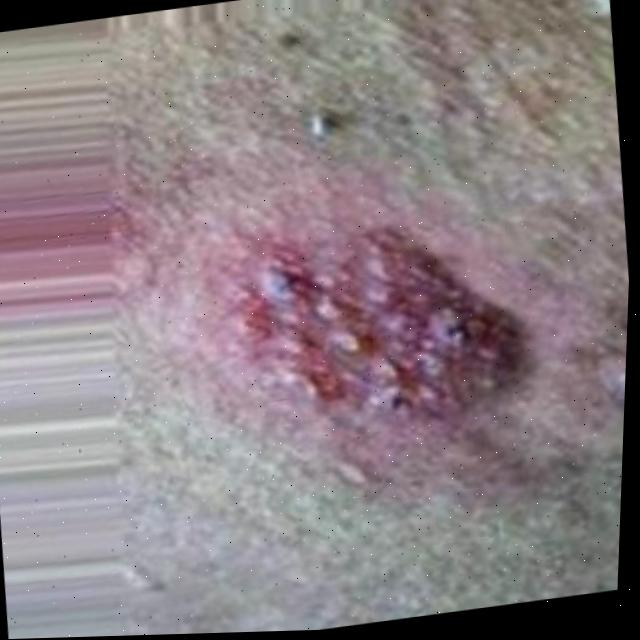Shingles: (232, 211, 528, 433)
